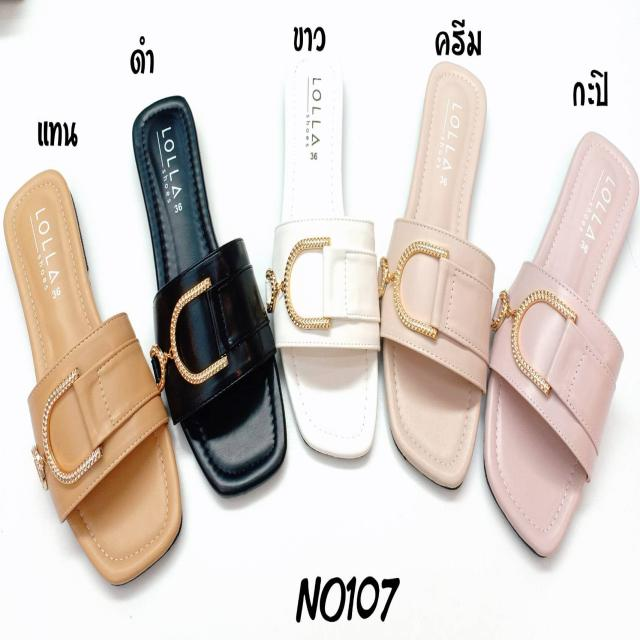black: (114, 87, 284, 481)
cream: (380, 66, 487, 487)
kapi: (483, 116, 640, 551)
tan: (12, 169, 177, 580)
white: (274, 56, 378, 458)
